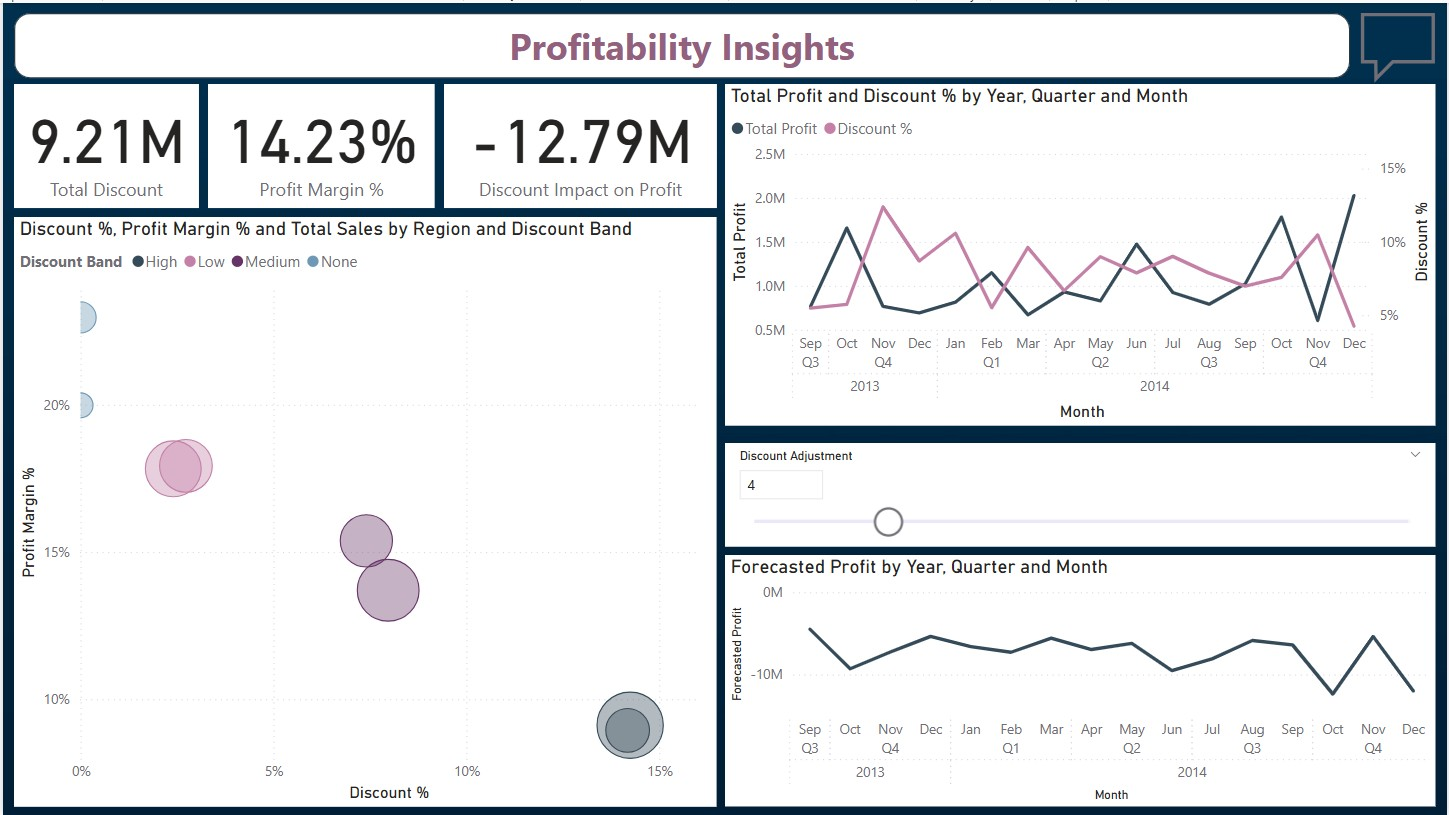

The dashboard page shown, as its layout file describes it:
{"tool":"powerbi","page":{"name":"Profitability Insights","canvas":[1280,720],"ordinal":4},"visuals":[{"type":"shape","box":[9.7,8.4,1184.7,57.9],"z":0},{"type":"actionButton","box":[1196.8,0,83.2,79.6],"z":1000},{"type":"scatterChart","fields":{"Y":["FinanceData.Profit Margin %"],"Size":["FinanceData.Total Sales"],"X":["FinanceData.Discount %"],"Series":["FinanceData.Discount Band"],"Category":["FinanceData.Region"]},"box":[9.8,189.8,623.3,523.2],"z":2000},{"type":"lineChart","fields":{"Y":["FinanceData.Total Profit"],"Category":["Dates.Year","Dates.Quarter","Dates.Month"],"Y2":["FinanceData.Discount %"]},"box":[640.2,71.8,629.6,303.3],"z":3000},{"type":"card","fields":{"Values":["FinanceData.Total Discount"]},"box":[9.8,71.8,164,110],"z":4000},{"type":"card","fields":{"Values":["FinanceData.Profit Margin %"]},"box":[181.8,71.8,201.3,110],"z":5000},{"type":"card","fields":{"Values":["FinanceData.Discount Impact on Profit"]},"box":[391,71.8,242.1,110],"z":6000},{"type":"lineChart","fields":{"Y":["FinanceData.Forecasted Profit"],"Category":["Dates.Year Hierarchy.Year","Dates.Year Hierarchy.Quarter","Dates.Year Hierarchy.Month"]},"box":[640.2,489.5,629.6,223.4],"z":7000},{"type":"slicer","fields":{"Values":["Discount Adjustment.Discount Adjustment"]},"box":[640.2,390.1,629.6,92.2],"z":8000}]}

Visuals, with their boxes in screenshot pixels (x1, y1, x2, y2), scaled from the page's 1280x720 canvas onto the 1449x815 screenshot:
shape: (x1=11, y1=10, x2=1352, y2=75)
actionButton: (x1=1355, y1=0, x2=1448, y2=90)
scatterChart - FinanceData.Profit Margin % x FinanceData.Total Sales: (x1=11, y1=215, x2=717, y2=807)
lineChart - FinanceData.Total Profit x Dates.Year: (x1=725, y1=81, x2=1437, y2=425)
card - FinanceData.Total Discount: (x1=11, y1=81, x2=197, y2=206)
card - FinanceData.Profit Margin %: (x1=206, y1=81, x2=434, y2=206)
card - FinanceData.Discount Impact on Profit: (x1=443, y1=81, x2=717, y2=206)
lineChart - FinanceData.Forecasted Profit x Dates.Year Hierarchy.Year: (x1=725, y1=554, x2=1437, y2=807)
slicer - Discount Adjustment.Discount Adjustment: (x1=725, y1=442, x2=1437, y2=546)
